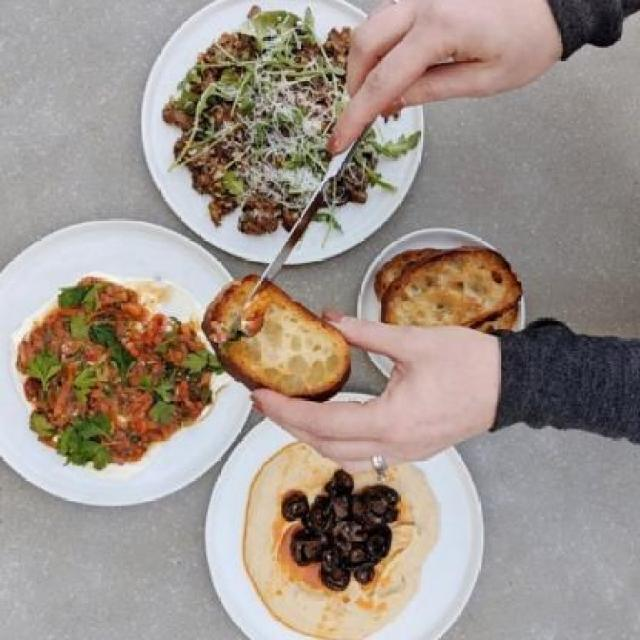eggplant: (9, 275, 258, 479)
hummus: (245, 425, 449, 637)
